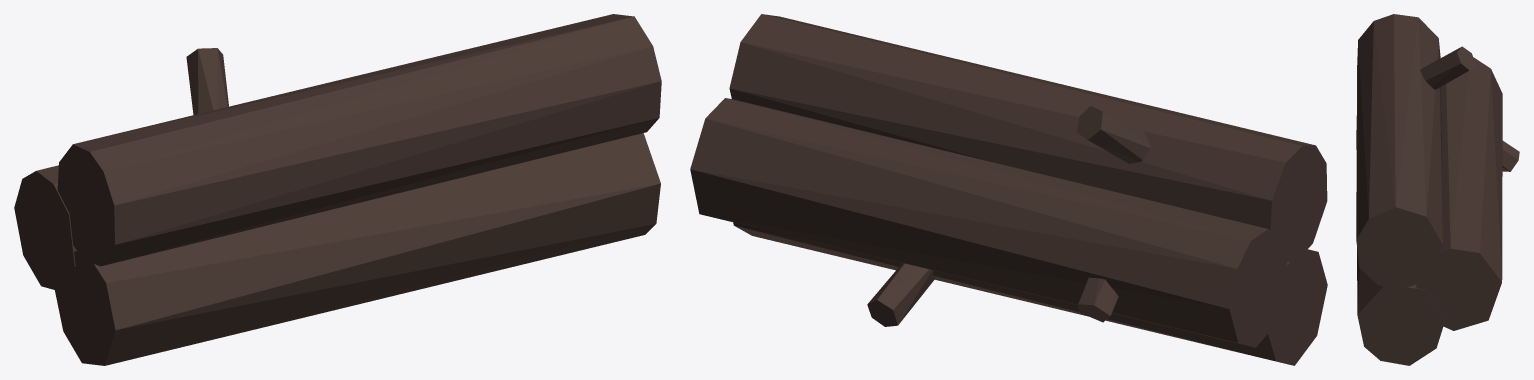
The model's file is manylogs.fbx.
The picture shows the model from 3 angles, left to right: view 1: azimuth 30°, elevation 25°; view 2: azimuth 150°, elevation 25°; view 3: azimuth 270°, elevation 25°; orthographic projection. The views are drawn at different scales.
Visible parts, largest first — view 1: Cylinder.005; view 2: Cylinder.005; view 3: Cylinder.005.
Part boxes in pixels (x1=…): Cylinder.005: x1=14, y1=14, x2=661, y2=365; Cylinder.005: x1=690, y1=14, x2=1327, y2=365; Cylinder.005: x1=1356, y1=14, x2=1519, y2=365.
Bounding box in the file's own units: 130 × 59.01 × 46.32.
